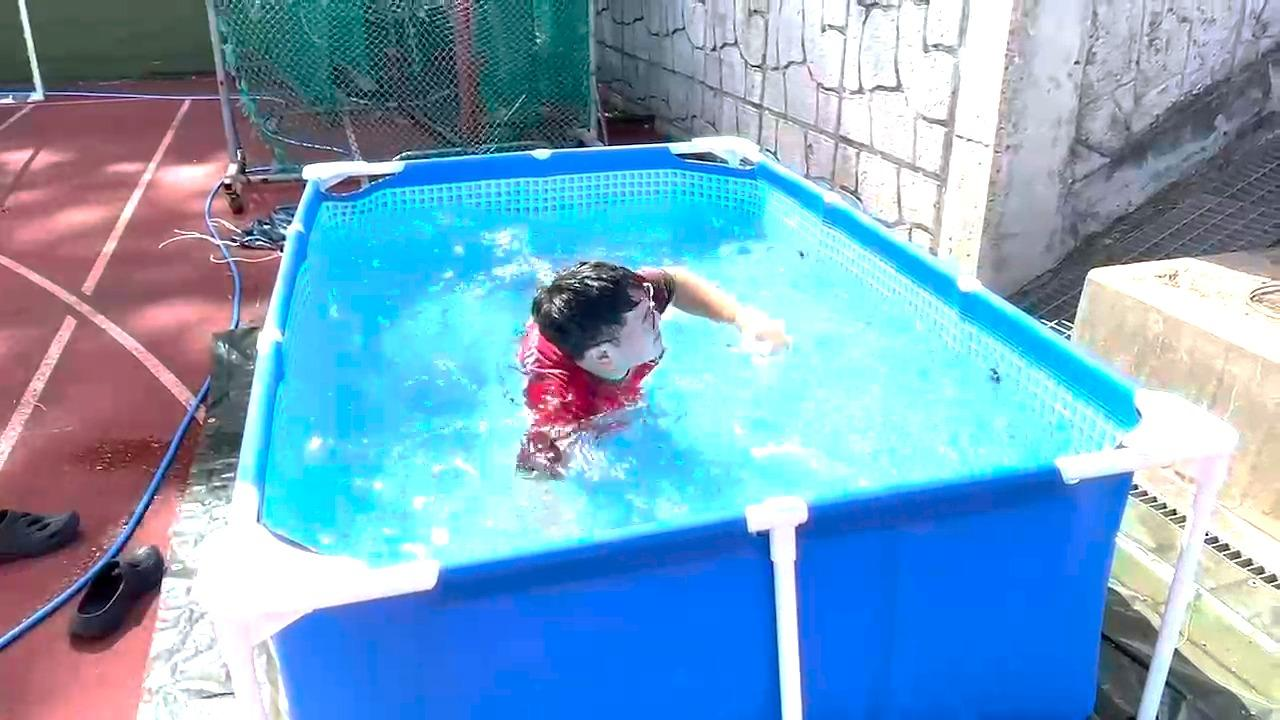Swimming: (485, 219, 798, 473)
